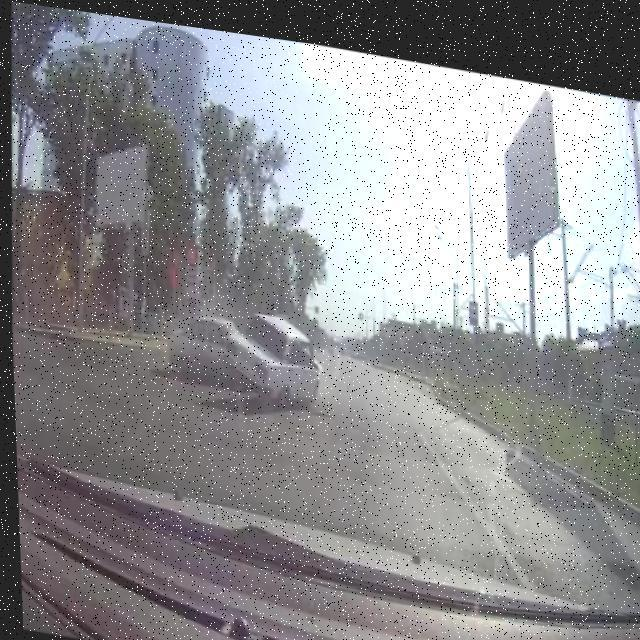Car Accident Detector - v4 Generation1 Exported: (158, 288, 328, 407)
